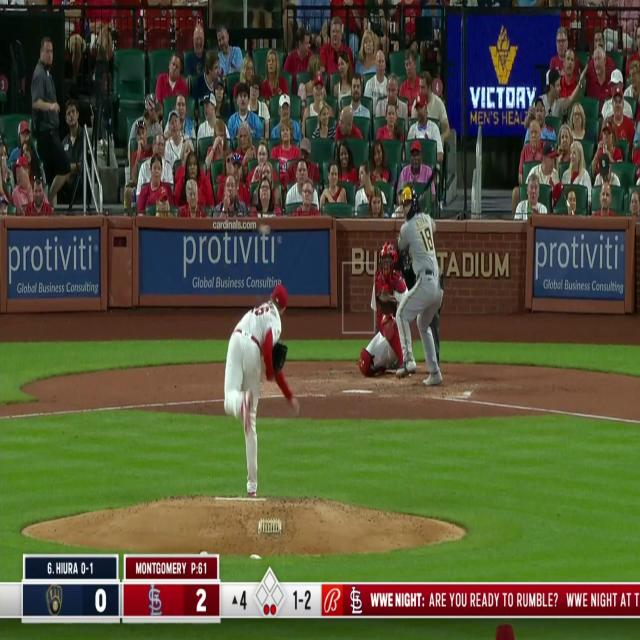baseball: (258, 222, 272, 238)
